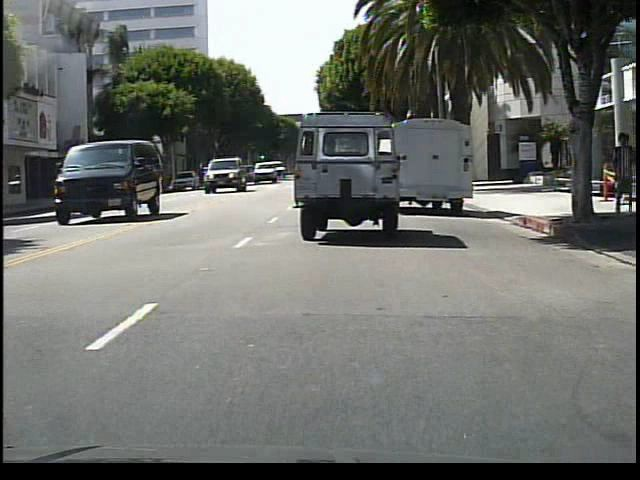person: (607, 133, 634, 215)
